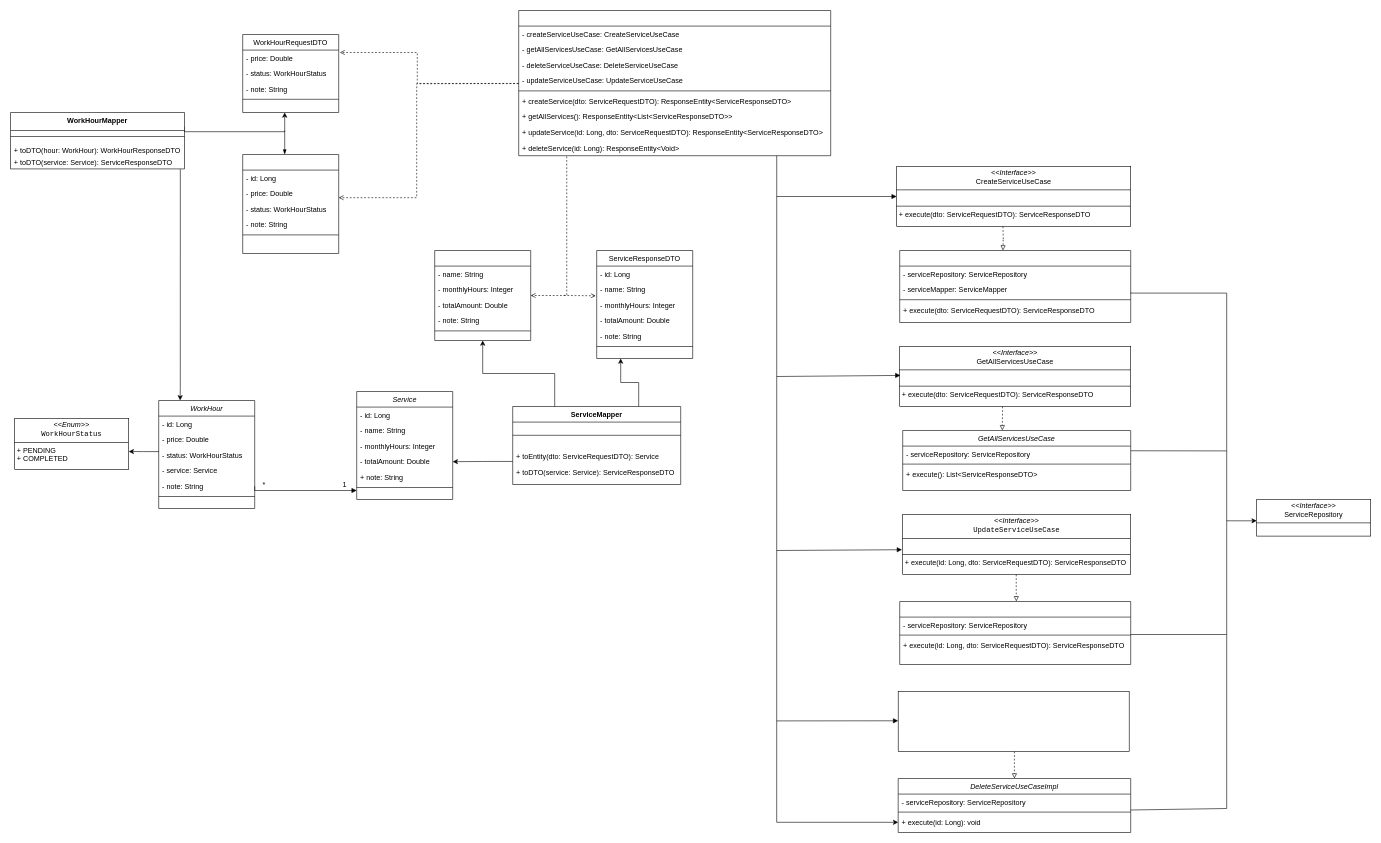
The diagram is 1381 pixels wide and 843 high, and some of its shapes have lost their labels. Each missing label, with the box of its shape:
<<Interface>> DeleteServiceUseCase + execute(id: Long): void: (898, 691, 1129, 752)
CreateServiceUseCaseImpl: (899, 250, 1131, 322)
ServiceRequestDTO: (434, 250, 531, 340)
ServicesController: (518, 10, 831, 156)
UpdateServiceUseCaseImpl: (899, 601, 1131, 664)
WorkHourResponseDTO: (242, 154, 339, 254)
